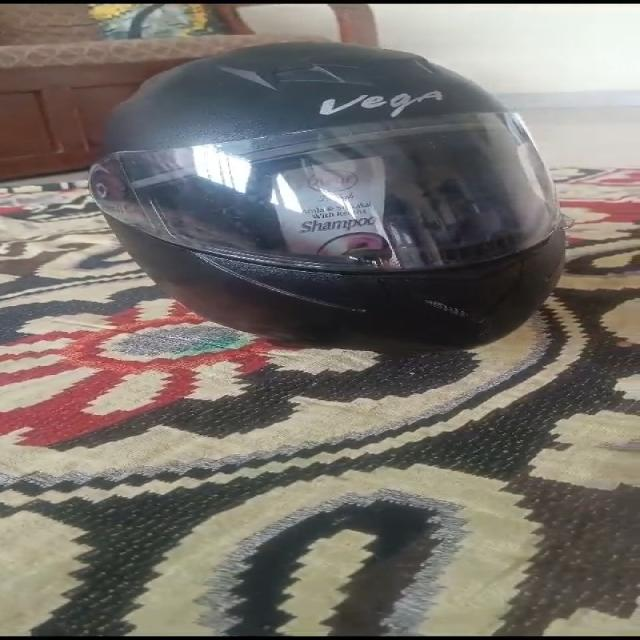Helmet: (88, 37, 568, 352)
